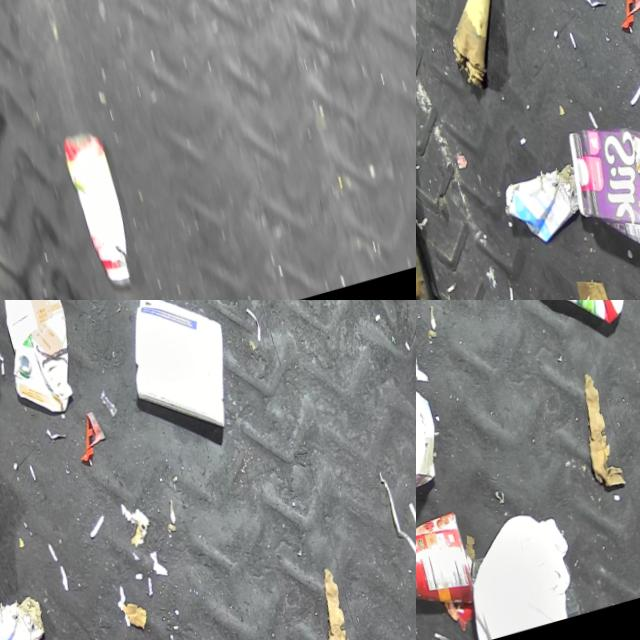can: (416, 508, 478, 618)
milk_jug: (445, 503, 585, 640)
non_white_jug: (557, 98, 640, 280), (0, 300, 88, 422), (489, 300, 640, 347)
